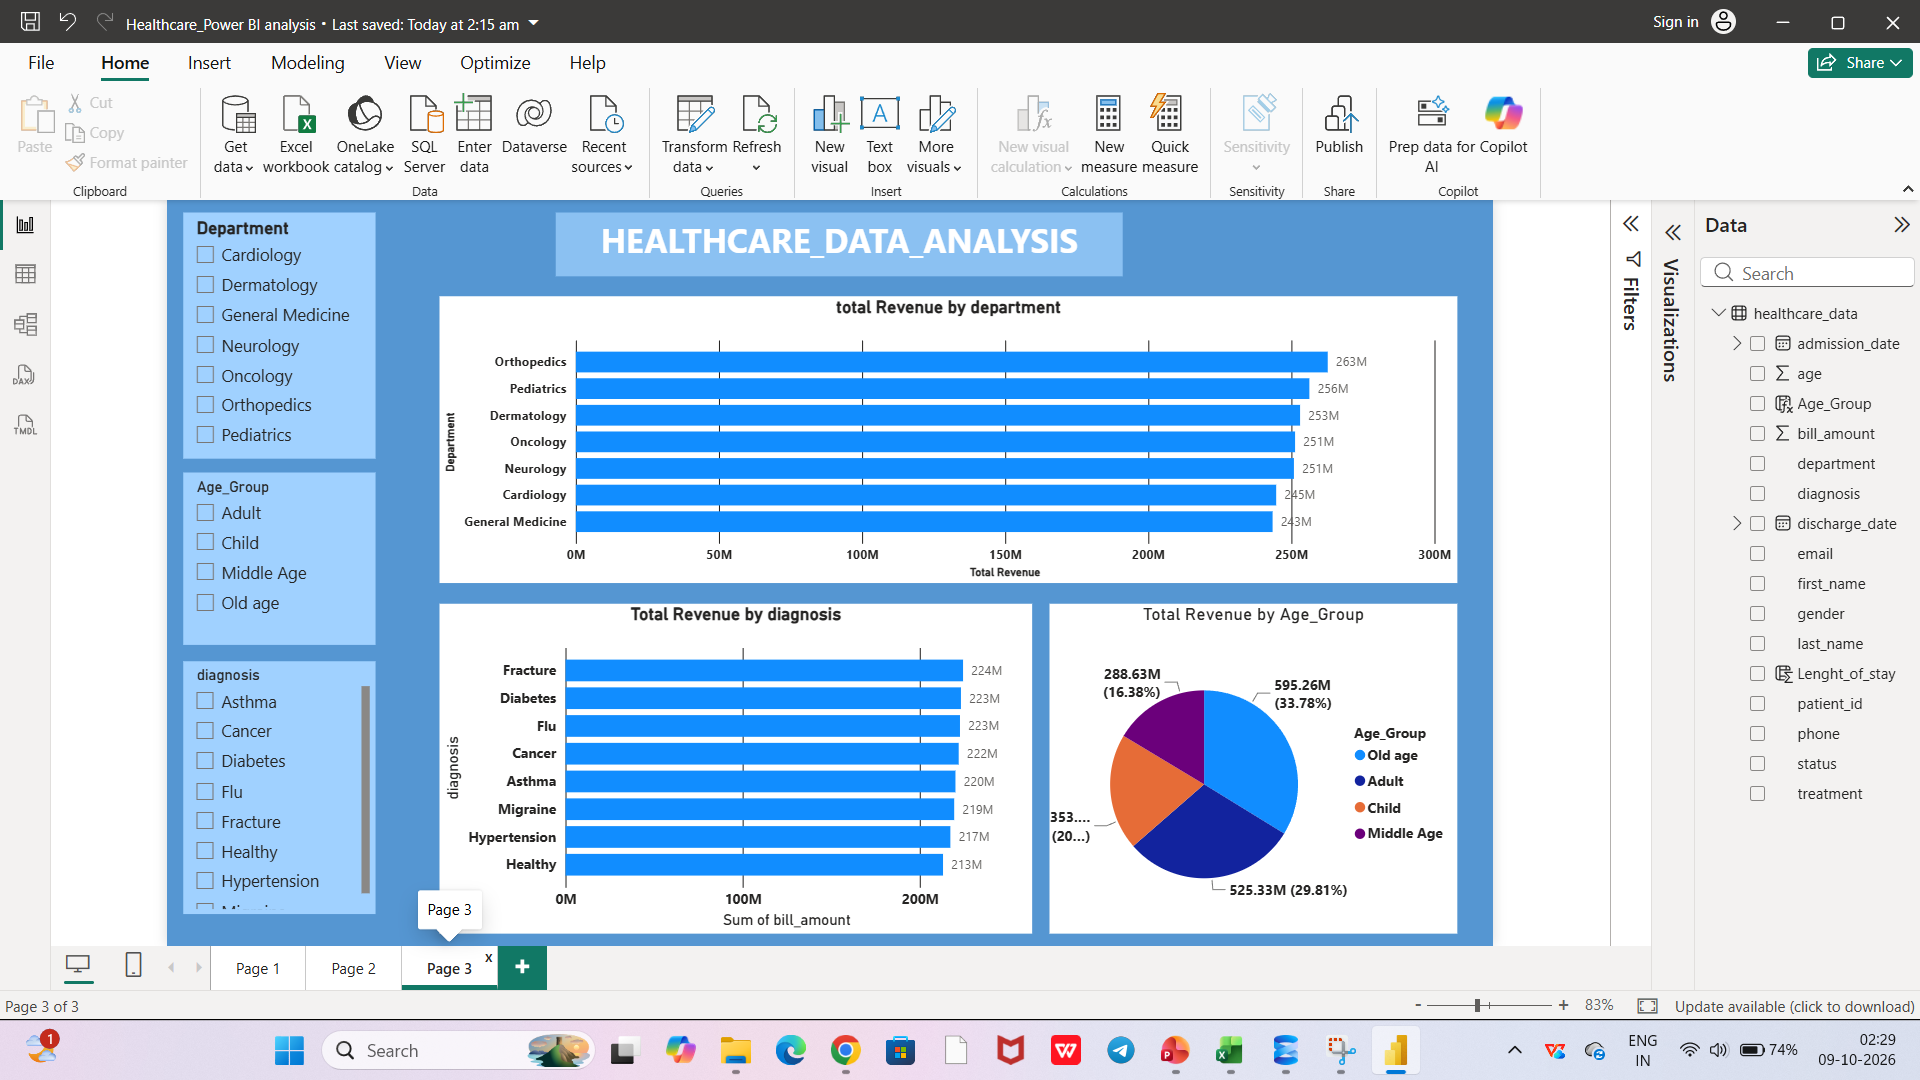

This screenshot's page, from the dashboard's own definition file:
{"tool":"powerbi","page":{"name":"Page 3","canvas":[1280,720],"ordinal":2},"visuals":[{"type":"textbox","box":[374.6,12.3,547.5,61.7],"z":0},{"type":"slicer","fields":{"Values":["healthcare_data.department"]},"box":[15.1,12.3,185.2,237.4],"z":1000},{"type":"slicer","fields":{"Values":["healthcare_data.Age_Group"]},"box":[15.1,263.5,185.2,166],"z":2000},{"type":"slicer","fields":{"Values":["healthcare_data.diagnosis"]},"box":[15.1,444.6,185.2,244.3],"z":3000},{"type":"clusteredBarChart","title":"total Revenue by department","fields":{"Category":["healthcare_data.department"],"Y":["Sum(healthcare_data.bill_amount)"]},"box":[263.5,93.3,982.5,277.2],"z":4000},{"type":"clusteredBarChart","title":"Total Revenue by diagnosis","fields":{"Category":["healthcare_data.diagnosis"],"Y":["Sum(healthcare_data.bill_amount)"]},"box":[263.5,389.7,572.2,318.4],"z":4001},{"type":"pieChart","title":"Total Revenue by Age_Group","fields":{"Y":["Sum(healthcare_data.bill_amount)"],"Category":["healthcare_data.Age_Group"]},"box":[852.1,389.7,393.8,318.4],"z":4002}]}

Visuals, with their boxes on the page's 1280x720 design canvas (x1, y1, x2, y2). These are canvas units, not pixel positions in the 1920x1080 screenshot, which may show the page scaled, cropped or inside an application window:
textbox: bbox=(375, 12, 922, 74)
slicer - healthcare_data.department: bbox=(15, 12, 200, 250)
slicer - healthcare_data.Age_Group: bbox=(15, 264, 200, 430)
slicer - healthcare_data.diagnosis: bbox=(15, 445, 200, 689)
"total Revenue by department" clusteredBarChart: bbox=(264, 93, 1246, 370)
"Total Revenue by diagnosis" clusteredBarChart: bbox=(264, 390, 836, 708)
"Total Revenue by Age_Group" pieChart: bbox=(852, 390, 1246, 708)
